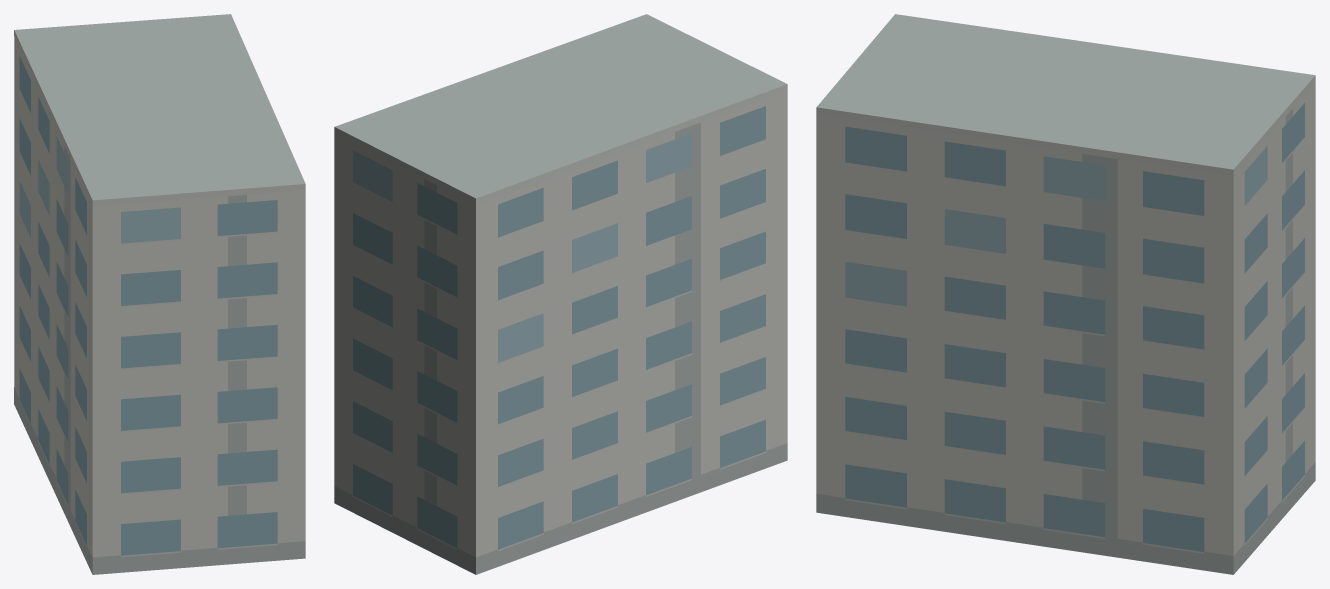
The model's file is survey-upis-32888448.glb.
The picture shows the model from 3 angles, left to right: view 1: azimuth 30°, elevation 25°; view 2: azimuth 150°, elevation 25°; view 3: azimuth 270°, elevation 25°; orthographic projection. The views are drawn at different scales.
Visible parts, largest first — view 1: survey-upis-32888448.tmp; view 2: survey-upis-32888448.tmp; view 3: survey-upis-32888448.tmp.
Boxes of the visible parts, box(x1,y1,x2,y2) form: survey-upis-32888448.tmp: box(14, 14, 305, 574); survey-upis-32888448.tmp: box(334, 14, 787, 574); survey-upis-32888448.tmp: box(816, 14, 1315, 574).
Bounding box in the file's own units: 11.87 × 14.4 × 16.09.
